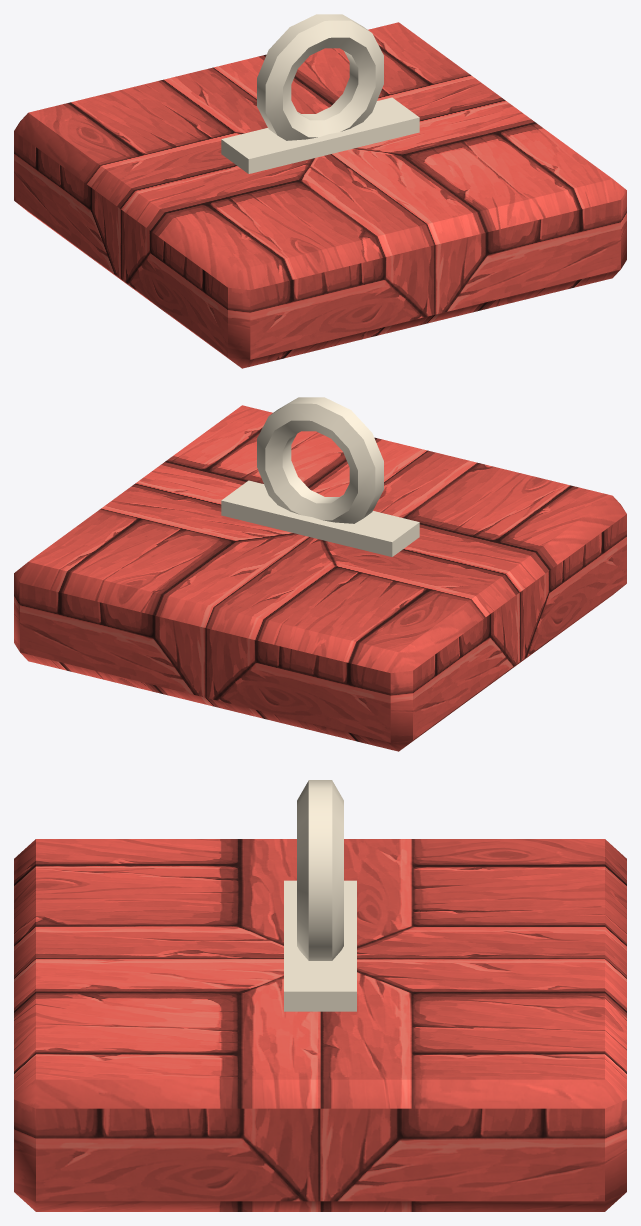
Rendered from tile_5.glb.
3 views of the same model, one above another, from view 1: azimuth 30°, elevation 25°; view 2: azimuth 150°, elevation 25°; view 3: azimuth 270°, elevation 25° (orthographic). The views are drawn at different scales.
Visible parts, largest first — view 1: tile_5; view 2: tile_5; view 3: tile_5.
Boxes of the visible parts, x1,y1,x2,y2 form: tile_5: [14, 14, 626, 368]; tile_5: [14, 397, 626, 751]; tile_5: [14, 780, 626, 1211].
Bounding box in the file's own units: 0.84 × 0.4577 × 0.84.
2 materials, 1 textured.
